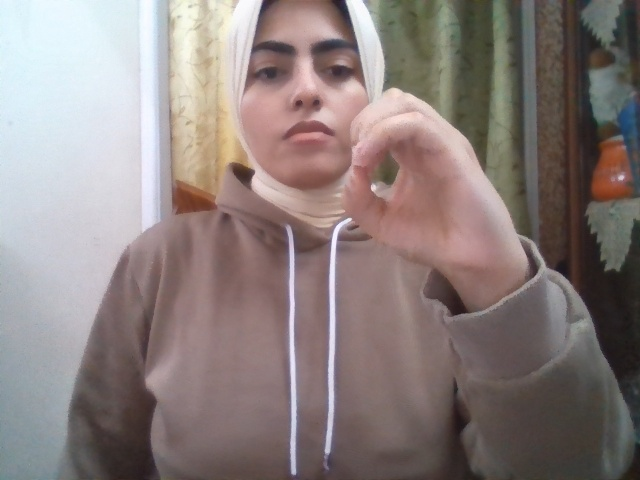O: (341, 86, 521, 275)
